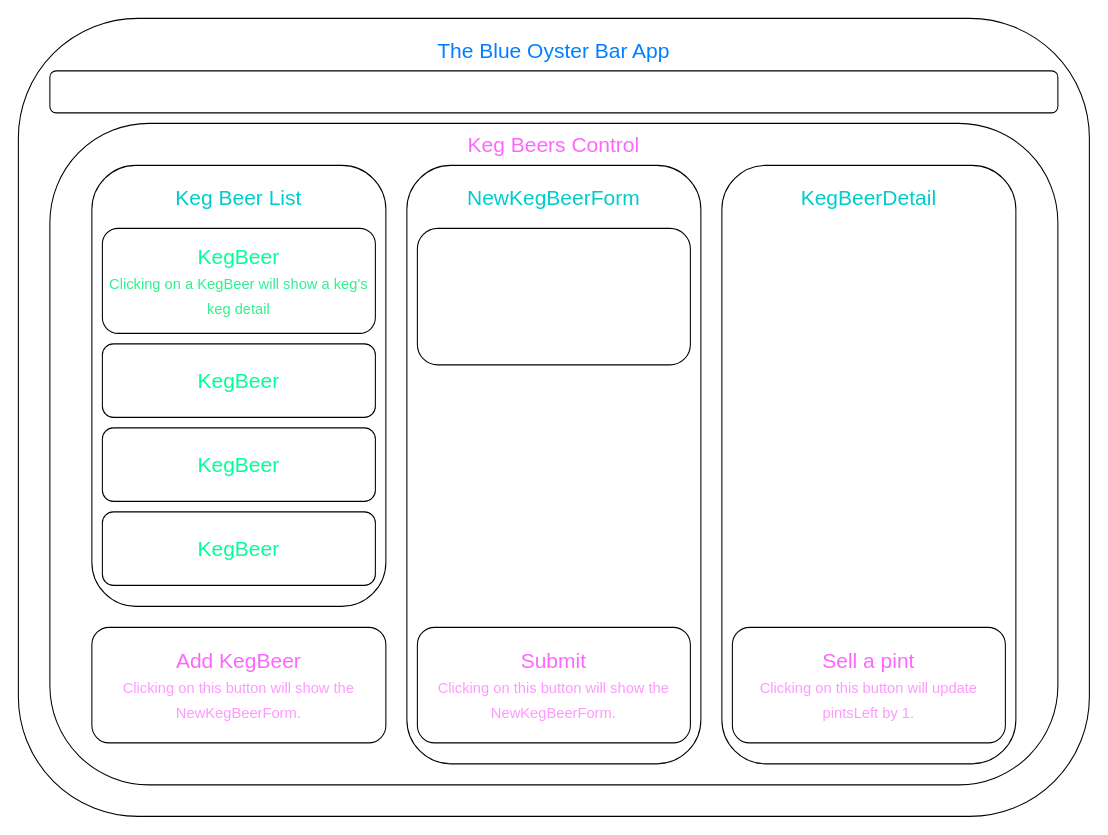
Some shapes in this 1108 by 835 pixel diagram are drawn without their labels. Each missing label, with the centre of its shape:
Header: point (553, 91)
name brand price alcoholContent pintsLeft: point (553, 296)
